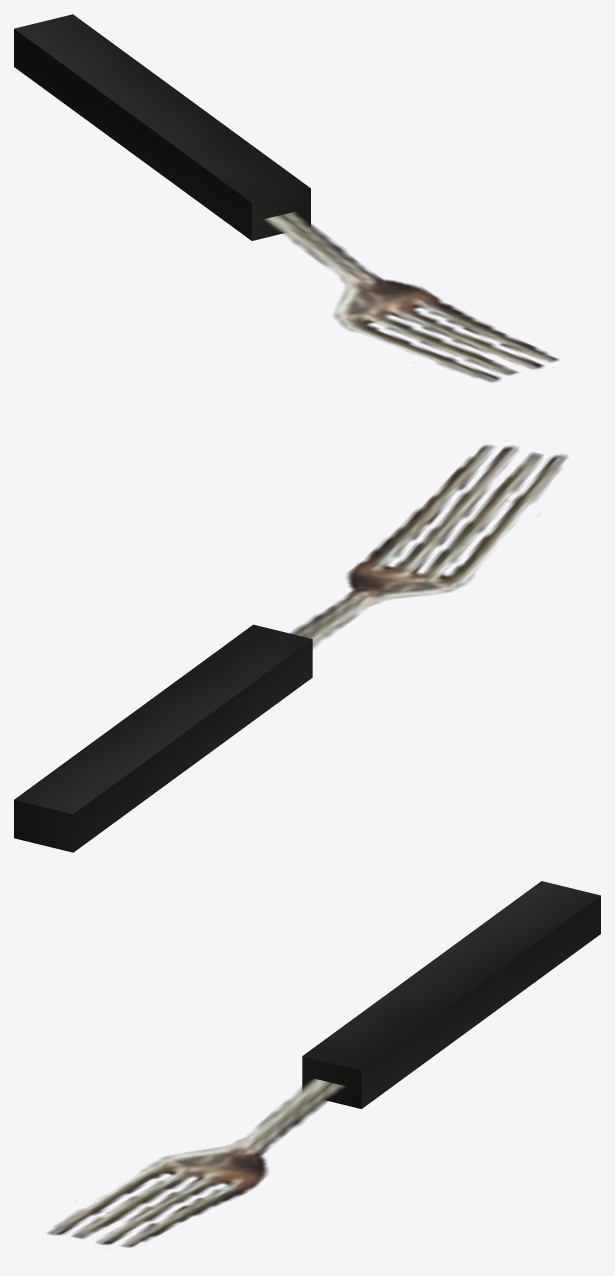
Rendered from Fork-col.glb.
The picture shows the model from 3 angles, top to bottom: view 1: azimuth 30°, elevation 25°; view 2: azimuth 150°, elevation 25°; view 3: azimuth 330°, elevation 25°; orthographic projection.
Parts seen in each view (by area): view 1: Fork-col; view 2: Fork-col; view 3: Fork-col.
Part boxes in pixels (x1=…): Fork-col: x1=14, y1=14, x2=558, y2=382; Fork-col: x1=14, y1=445, x2=567, y2=852; Fork-col: x1=47, y1=881, x2=600, y2=1247.
Bounding box in the file's own units: 0.0972 × 0.0287 × 0.591.
1 material, 1 textured.
